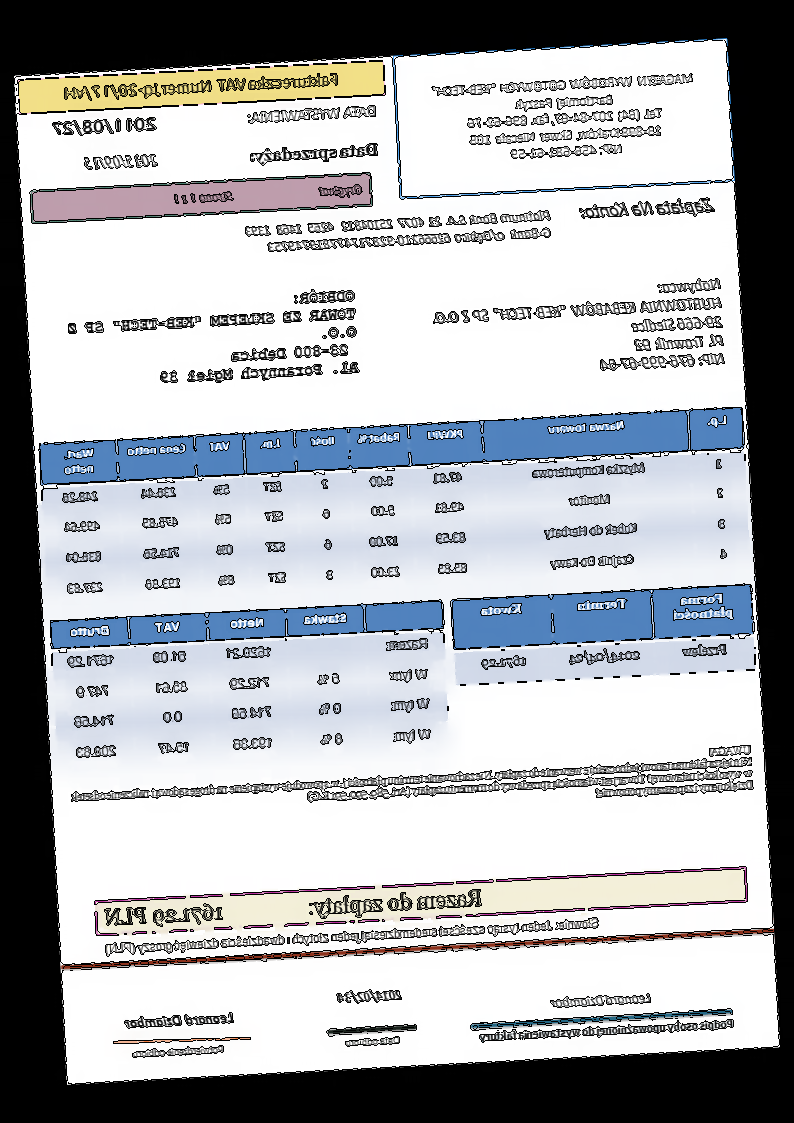Table: (38, 405, 752, 609), (49, 599, 452, 773), (450, 582, 757, 688)
TextBox: (68, 742, 756, 830), (62, 284, 362, 393), (431, 274, 728, 382), (429, 69, 700, 167), (105, 913, 601, 959), (101, 885, 485, 932), (241, 207, 554, 258), (63, 69, 342, 104), (476, 1015, 736, 1045), (173, 182, 364, 209), (578, 195, 717, 223), (246, 140, 381, 167), (246, 101, 379, 127), (51, 115, 158, 141), (124, 1009, 237, 1030), (547, 989, 654, 1011), (83, 151, 159, 173), (131, 1043, 225, 1060), (336, 986, 404, 1006), (344, 1032, 403, 1050)
